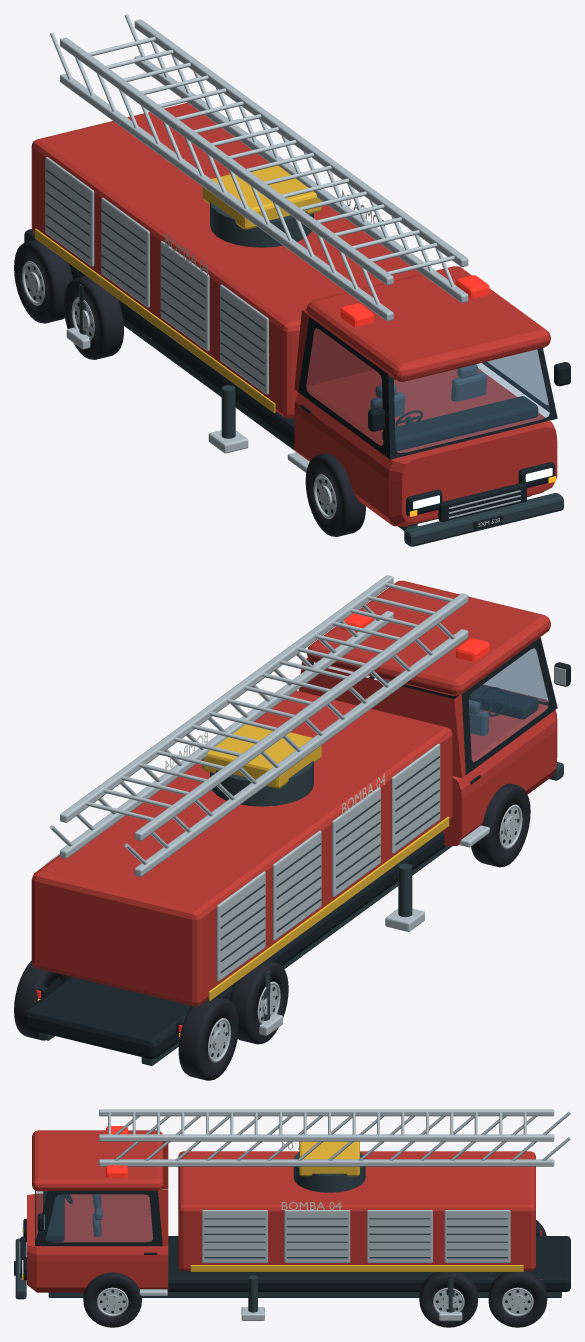
3 views of the same model, one above another, from view 1: azimuth 30°, elevation 25°; view 2: azimuth 150°, elevation 25°; view 3: azimuth 270°, elevation 25° (orthographic). The views are drawn at different scales.
Parts seen in each view (by area): view 1: Subang Aerial Rescue Ladder Truck; view 2: Subang Aerial Rescue Ladder Truck; view 3: Subang Aerial Rescue Ladder Truck.
Boxes of the visible parts, x1=… form: Subang Aerial Rescue Ladder Truck: x1=14, y1=14, x2=570, y2=546; Subang Aerial Rescue Ladder Truck: x1=14, y1=575, x2=570, y2=1080; Subang Aerial Rescue Ladder Truck: x1=14, y1=1109, x2=570, y2=1327.
Size of the model in its own units: 2.64 by 3.15 by 9.11.
